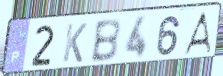2: (30, 24, 55, 68)
4: (123, 13, 149, 62)
6: (156, 14, 181, 57)
A: (181, 11, 212, 56)
B: (89, 17, 122, 64)
K: (61, 22, 89, 64)
